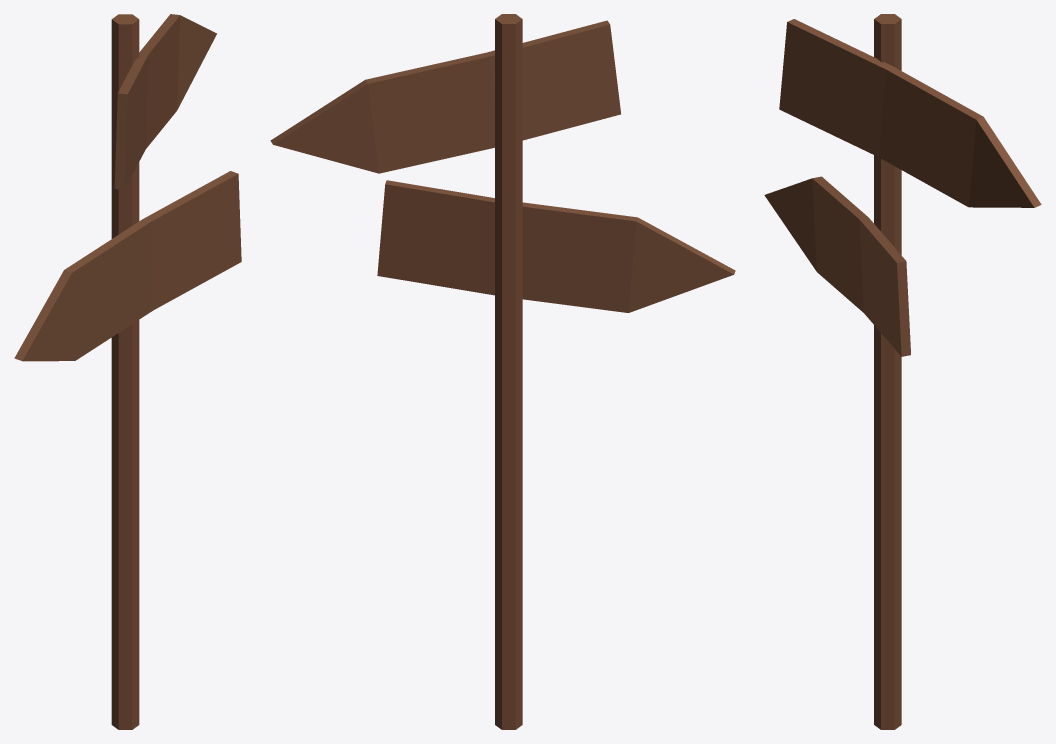
File: SIGN.fbx
3 renders of one model, left to right at view 1: azimuth 30°, elevation 25°; view 2: azimuth 150°, elevation 25°; view 3: azimuth 270°, elevation 25°, orthographic.
Visible parts, largest first — view 1: stand; view 2: stand; view 3: stand.
Part boxes in pixels (<box>): stand: <box>14,14,241,729</box>; stand: <box>270,14,735,729</box>; stand: <box>764,14,1041,729</box>.
Size of the model in its own units: 480 by 970 by 346.
